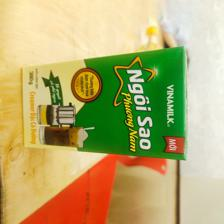NSPN_Hop: (20, 45, 187, 165)
